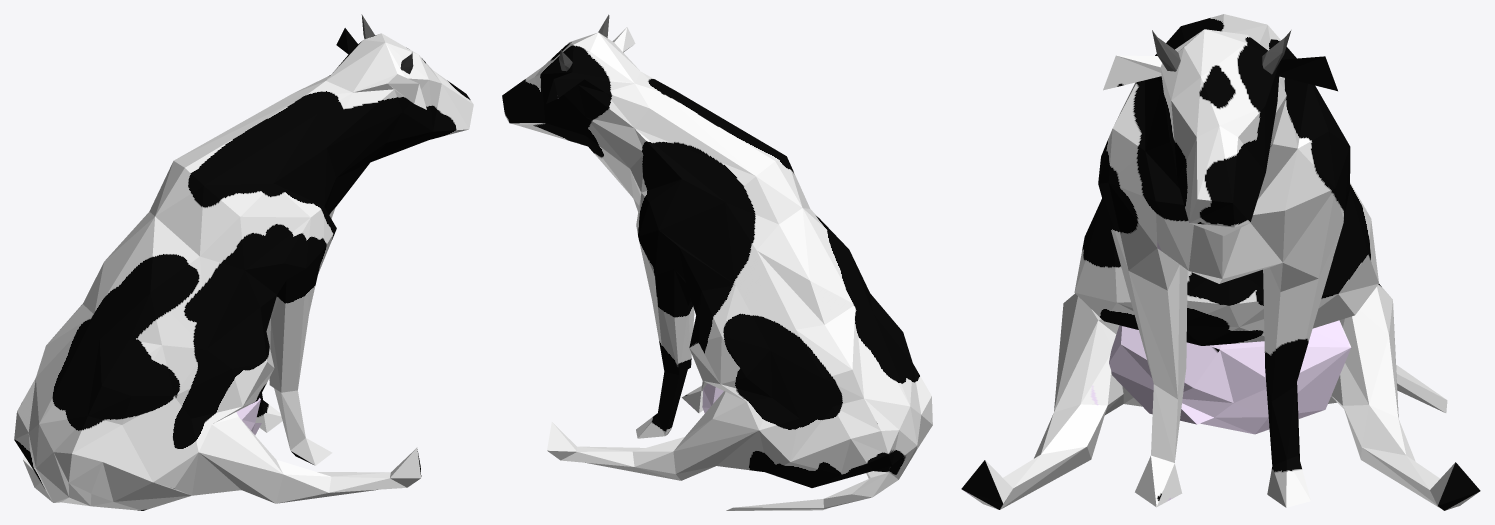
The model's file is Cow1.fbx.
3 renders of one model, left to right at view 1: azimuth 30°, elevation 25°; view 2: azimuth 150°, elevation 25°; view 3: azimuth 270°, elevation 25°, orthographic. The views are drawn at different scales.
Parts seen in each view (by area): view 1: cow; view 2: cow; view 3: cow, cow.001.
Boxes of the visible parts, x1=… form: cow: x1=14, y1=28, x2=473, y2=510; cow: x1=502, y1=27, x2=932, y2=510; cow: x1=961, y1=14, x2=1480, y2=510; cow.001: x1=1152, y1=30, x2=1291, y2=74.
Size of what is drawn, in the model's own units: 245 by 216 by 184.
Materials: 2 (1 with a texture image).
